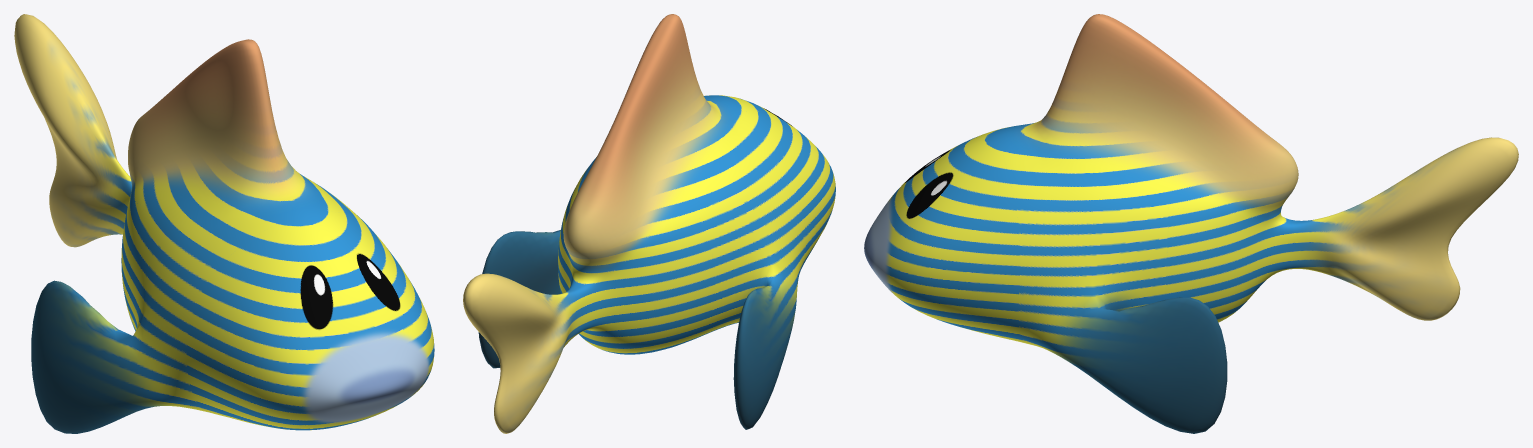
The model's file is blub.glb.
3 views of the same model, side by side, from view 1: azimuth 30°, elevation 25°; view 2: azimuth 150°, elevation 25°; view 3: azimuth 270°, elevation 25° (orthographic). The views are drawn at different scales.
Visible parts, largest first — view 1: blub; view 2: blub; view 3: blub.
Part boxes in pixels (x1,y1,x2,y2): blub: (14, 14, 434, 433); blub: (463, 14, 835, 433); blub: (864, 14, 1518, 433).
Size of the model in its own units: 1.42 by 1.75 by 2.91.
1 material, 1 textured.
